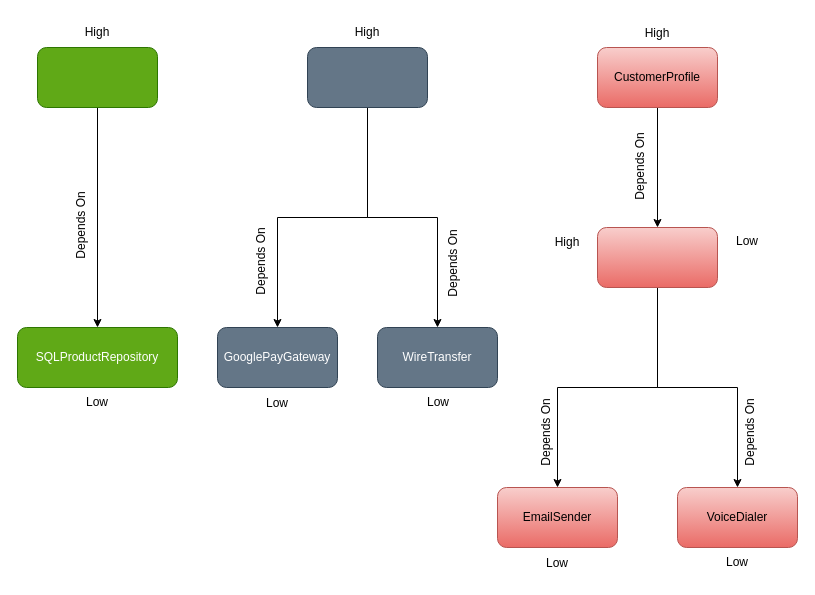
This 815x595 diagram has some shape labels left out. The shapes that lost their labels are listed below. From the top down, each one's centre as x and y in pixels, then its label:
(x=97, y=77): Product Catalog
(x=367, y=77): Payment Processor
(x=657, y=257): Communication
